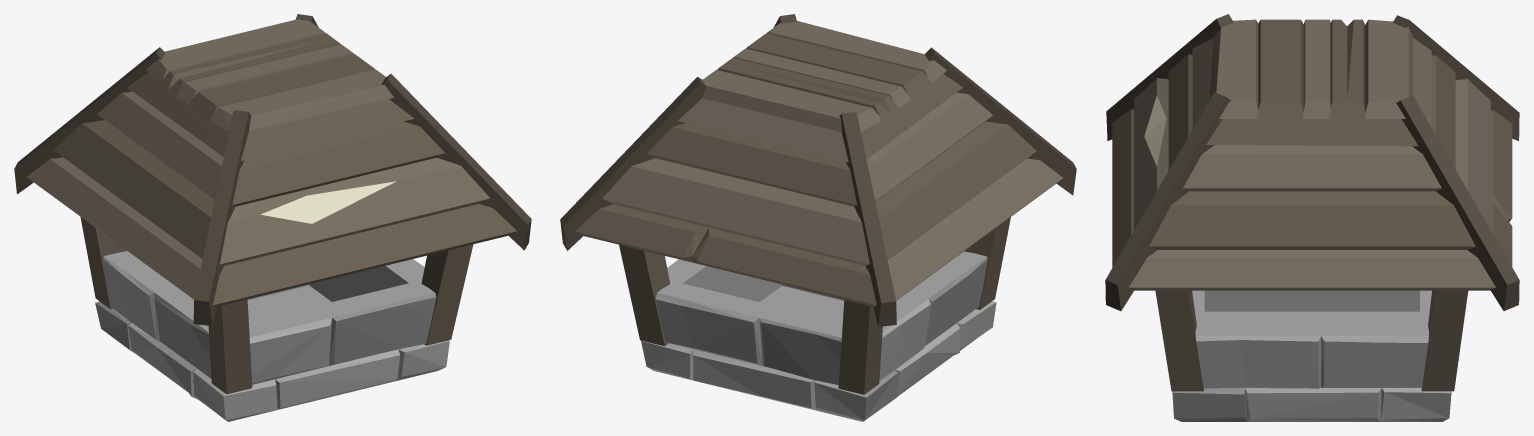
File: _TOWER_5_UP_01.fbx
3 views of the same model, side by side, from view 1: azimuth 30°, elevation 25°; view 2: azimuth 150°, elevation 25°; view 3: azimuth 270°, elevation 25° (orthographic). The views are drawn at different scales.
Visible parts, largest first — view 1: TOWER_5_UP_01; view 2: TOWER_5_UP_01; view 3: TOWER_5_UP_01.
Boxes of the visible parts, x1,y1,x2,y2 form: TOWER_5_UP_01: (14,14,531,421); TOWER_5_UP_01: (560,14,1076,421); TOWER_5_UP_01: (1105,14,1519,421).
Bounding box in the file's own units: 473 × 388 × 466.
